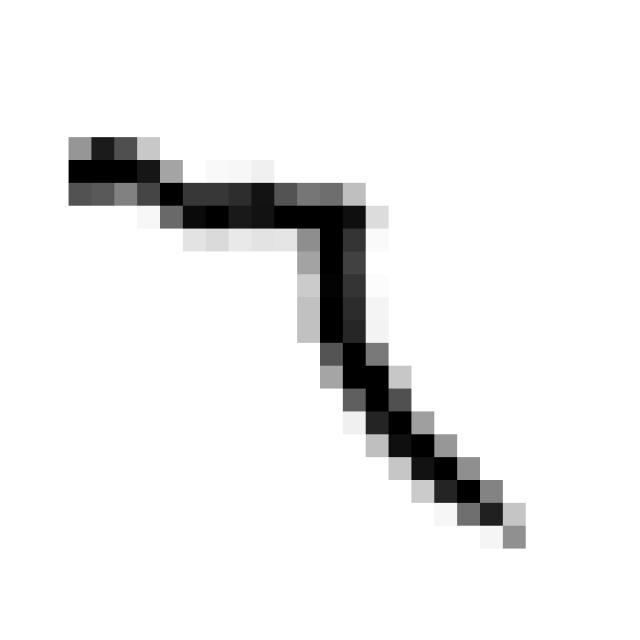6 -six-: (46, 117, 544, 570)
